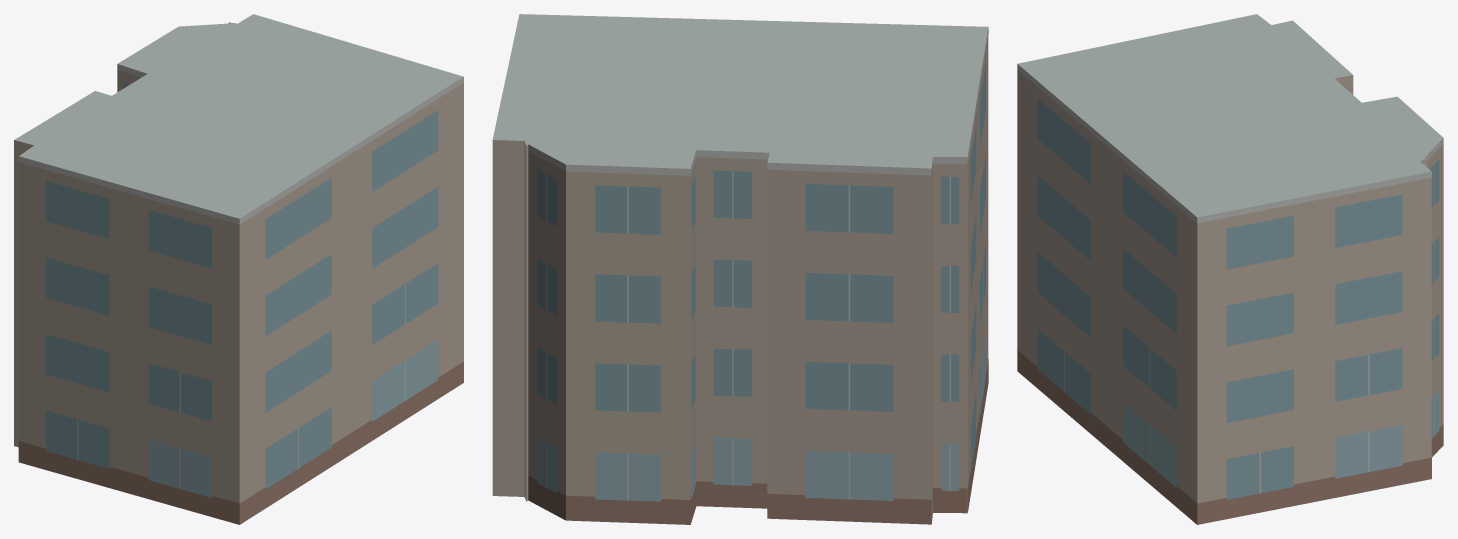
The model's file is survey-upis-32743044.glb.
3 views of the same model, side by side, from view 1: azimuth 30°, elevation 25°; view 2: azimuth 150°, elevation 25°; view 3: azimuth 270°, elevation 25° (orthographic). The views are drawn at different scales.
Parts seen in each view (by area): view 1: survey-upis-32743044.tmp; view 2: survey-upis-32743044.tmp; view 3: survey-upis-32743044.tmp.
Part boxes in pixels (<box>): survey-upis-32743044.tmp: <box>14,14,463,524</box>; survey-upis-32743044.tmp: <box>492,14,988,524</box>; survey-upis-32743044.tmp: <box>1017,14,1443,524</box>.
Bounding box in the file's own units: 17.77 × 12.51 × 15.73.
